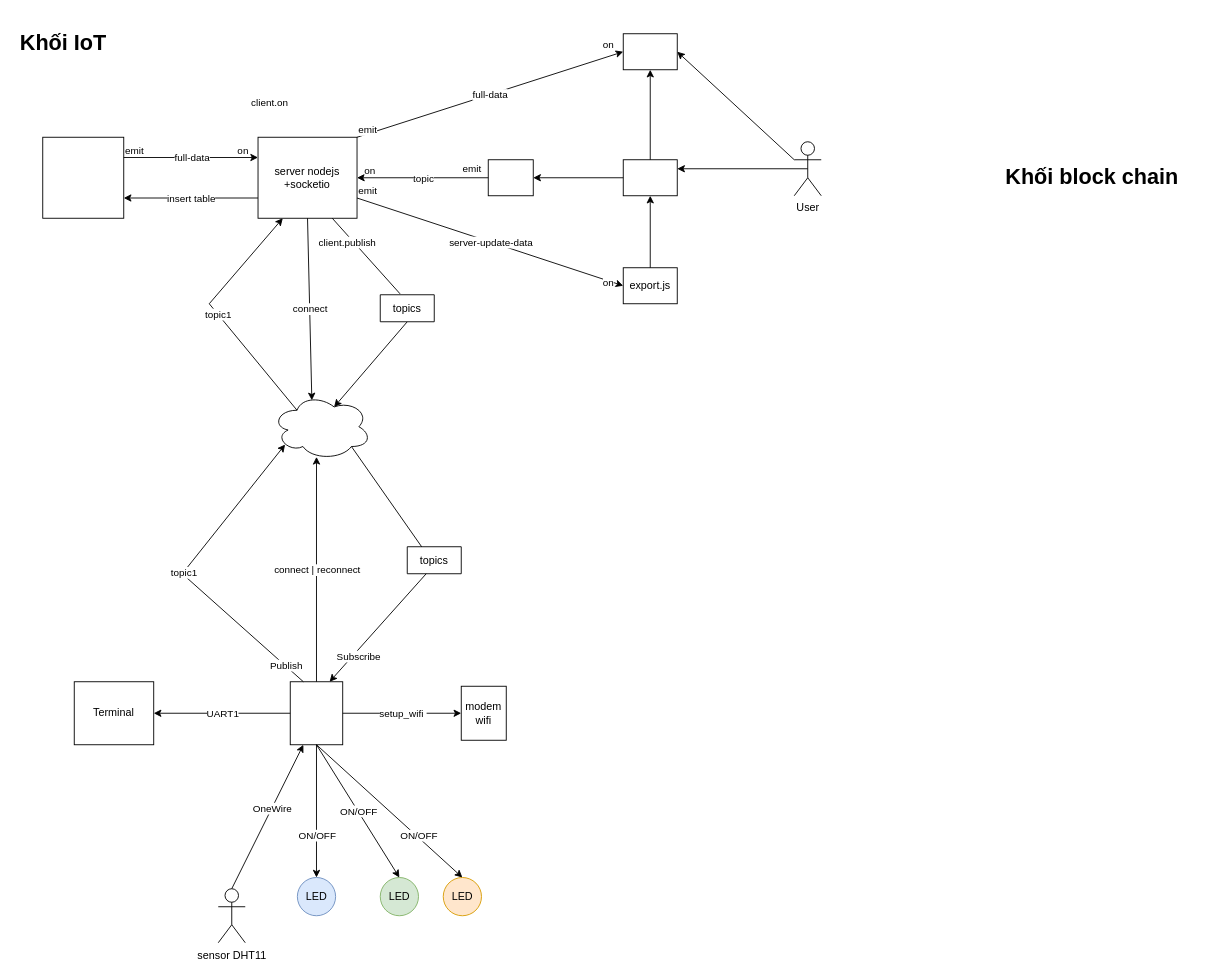
Image size: 1205x977. Some labels were removed from this diagram. Here are the shapes that lost their labels. From the top down, the centre of each, then its label:
At point 649,51: "history.ejs".
At point 83,177: "mySQL".
At point 510,177: "xuly.js".
At point 649,177: "home.ejs".
At point 321,426: "MQTT broker".
At point 316,713: "ESP32".
